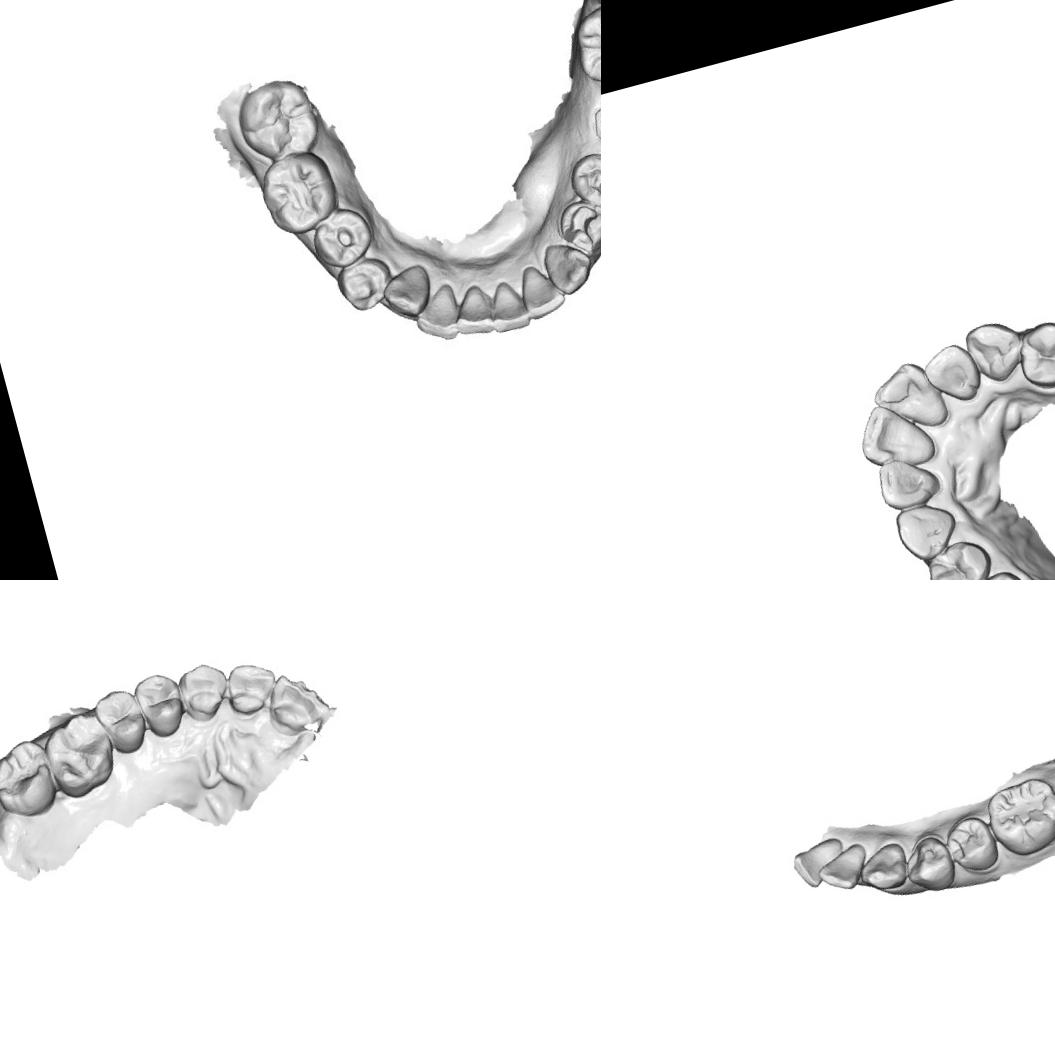canine: (960, 312, 1031, 387), (891, 496, 963, 567), (173, 658, 235, 726), (375, 260, 435, 322), (852, 839, 912, 896), (541, 240, 591, 293)
implant_minus: (586, 95, 601, 151)
incisor: (866, 353, 952, 441), (850, 392, 938, 477), (260, 664, 333, 736), (917, 338, 986, 410), (872, 448, 944, 514), (220, 655, 282, 718), (787, 834, 851, 892), (811, 839, 874, 896), (512, 256, 567, 319), (413, 287, 466, 346), (482, 273, 532, 334), (454, 282, 495, 333)
molar: (250, 145, 343, 240), (38, 705, 125, 804), (235, 75, 325, 164), (979, 770, 1055, 863), (0, 734, 63, 825), (559, 0, 601, 97)
premolar: (302, 201, 377, 271), (88, 682, 152, 761), (130, 667, 190, 743), (332, 250, 398, 316), (940, 811, 1002, 878), (897, 832, 958, 898), (919, 533, 1001, 580), (1010, 315, 1055, 395), (558, 195, 601, 252), (570, 149, 601, 213), (956, 565, 1036, 580)
